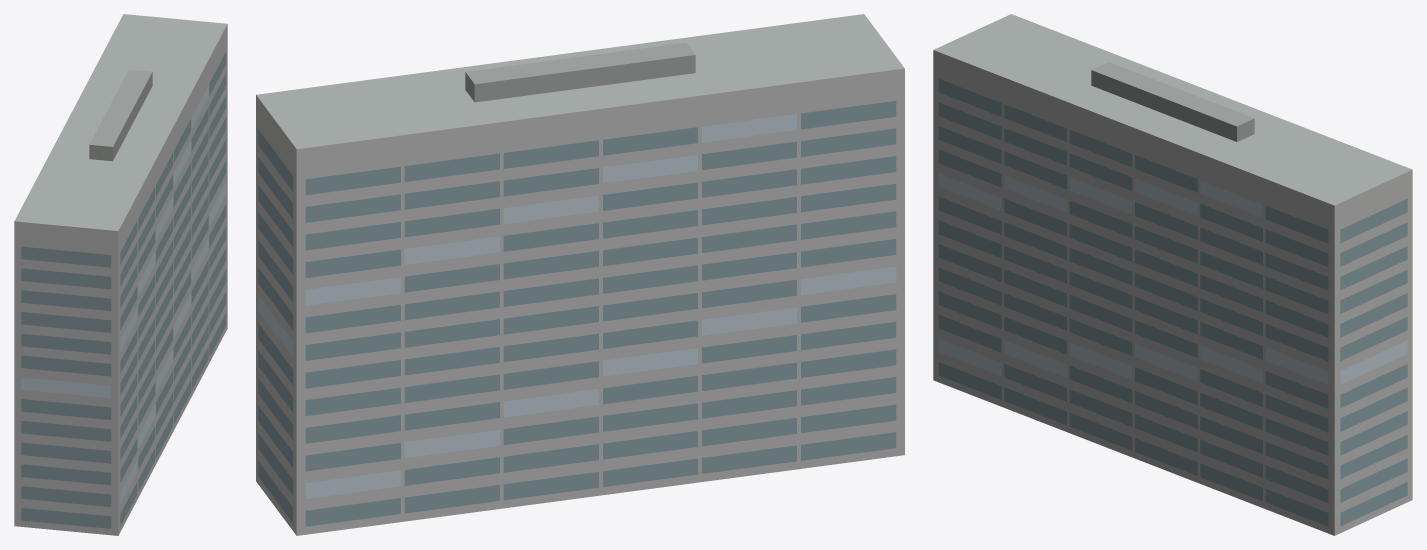
Rendered from apt-a10024642.glb.
3 views of the same model, side by side, from view 1: azimuth 30°, elevation 25°; view 2: azimuth 150°, elevation 25°; view 3: azimuth 270°, elevation 25° (orthographic). The views are drawn at different scales.
Visible parts, largest first — view 1: apt-a10024642; view 2: apt-a10024642; view 3: apt-a10024642.
Boxes of the visible parts, x1,y1,x2,y2 form: apt-a10024642: (14,14,227,535); apt-a10024642: (256,14,904,535); apt-a10024642: (933,14,1412,535).
Size of the model in its own units: 47.53 by 40 by 50.25.
